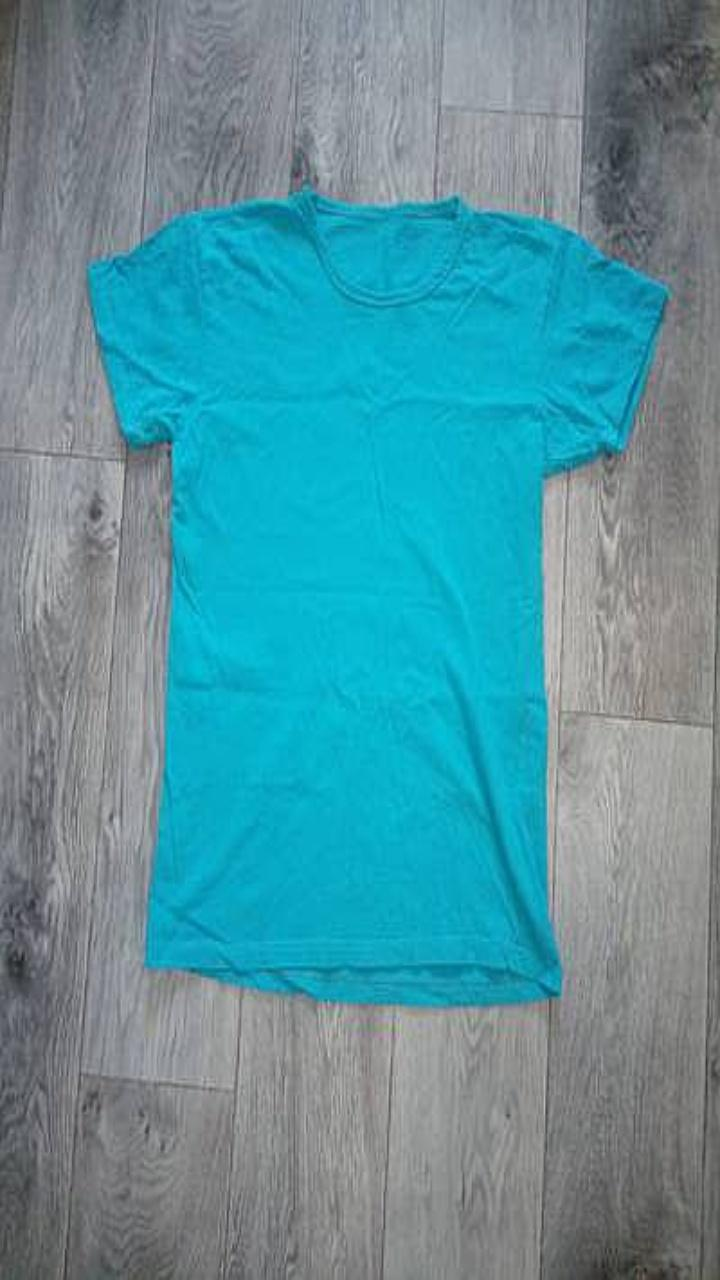T-Shirt: (87, 181, 669, 1004)
